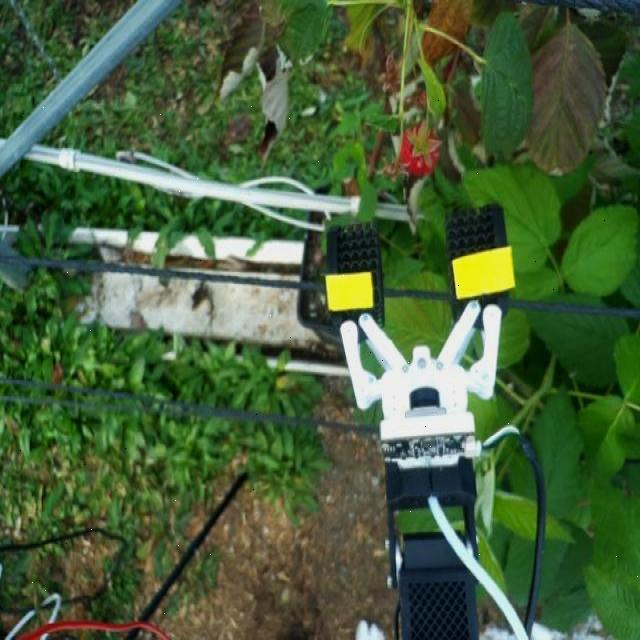Riped berries: (395, 117, 443, 179)
